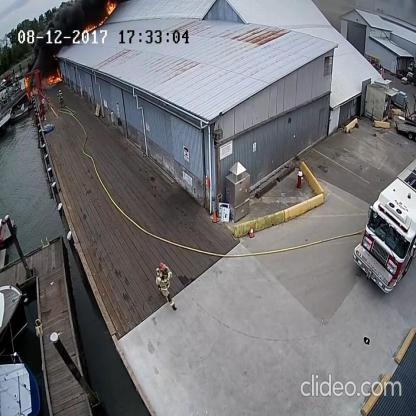fire: (85, 0, 118, 32), (23, 75, 38, 103), (44, 67, 64, 86)
